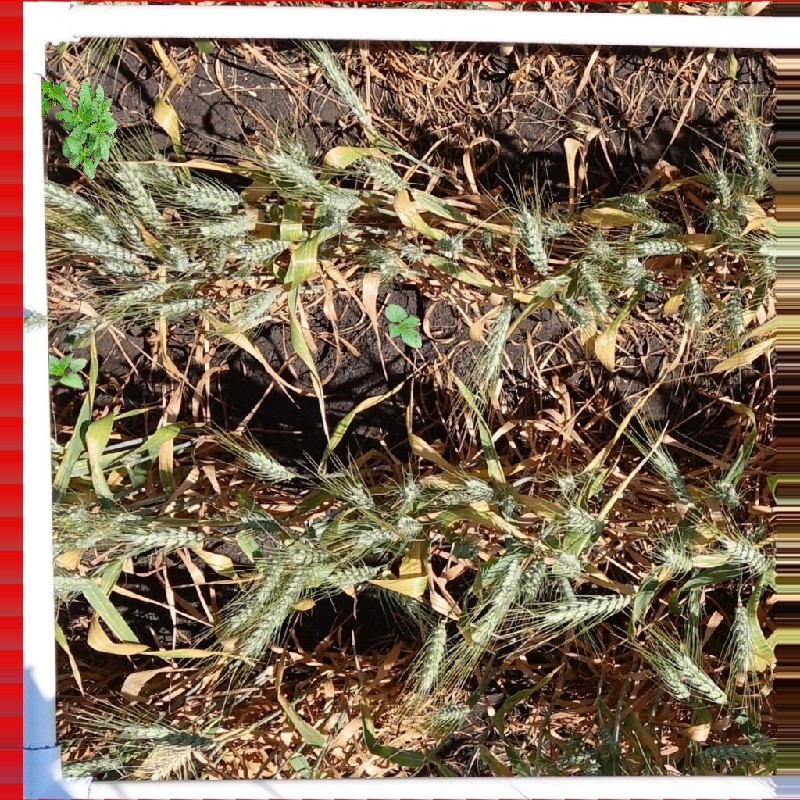spikelet: (238, 563, 311, 663), (307, 40, 380, 134), (465, 554, 525, 651), (227, 556, 297, 633), (539, 586, 639, 631), (110, 160, 170, 235), (668, 642, 731, 707), (56, 224, 145, 267), (474, 299, 516, 389), (645, 437, 697, 505), (261, 142, 328, 194), (68, 504, 139, 550), (412, 616, 453, 694), (512, 200, 554, 276), (735, 112, 772, 198), (719, 529, 779, 582), (119, 520, 209, 555), (172, 174, 249, 213), (36, 174, 101, 219), (643, 646, 693, 703), (727, 598, 763, 673), (238, 442, 300, 485), (573, 253, 614, 317), (232, 283, 284, 331), (108, 273, 175, 310), (138, 744, 204, 781), (112, 201, 154, 258), (693, 735, 777, 763), (53, 750, 129, 780), (150, 289, 216, 322), (359, 152, 411, 193), (235, 231, 295, 266), (678, 269, 711, 329), (196, 209, 259, 240), (324, 559, 385, 591), (349, 519, 404, 554), (702, 198, 746, 240), (113, 716, 177, 744), (703, 161, 741, 208), (559, 501, 606, 538), (632, 231, 691, 259), (655, 538, 698, 576), (336, 475, 379, 513), (362, 241, 403, 280), (721, 281, 750, 336), (558, 293, 598, 332), (87, 209, 129, 246), (45, 567, 95, 598), (285, 539, 336, 569), (519, 555, 550, 603), (315, 184, 363, 215), (708, 472, 746, 511), (617, 250, 651, 292), (233, 501, 280, 530), (549, 546, 587, 580), (538, 209, 577, 239), (583, 230, 619, 262), (633, 212, 681, 236), (613, 186, 653, 214), (747, 158, 774, 199), (99, 255, 147, 278), (394, 474, 426, 507), (164, 239, 192, 274), (428, 706, 474, 727), (393, 511, 426, 540), (468, 470, 498, 500), (436, 231, 468, 259), (551, 467, 581, 496), (434, 488, 477, 505), (397, 239, 426, 263), (497, 492, 522, 517)
weed: (41, 82, 118, 180), (384, 303, 422, 348), (49, 353, 88, 390)
